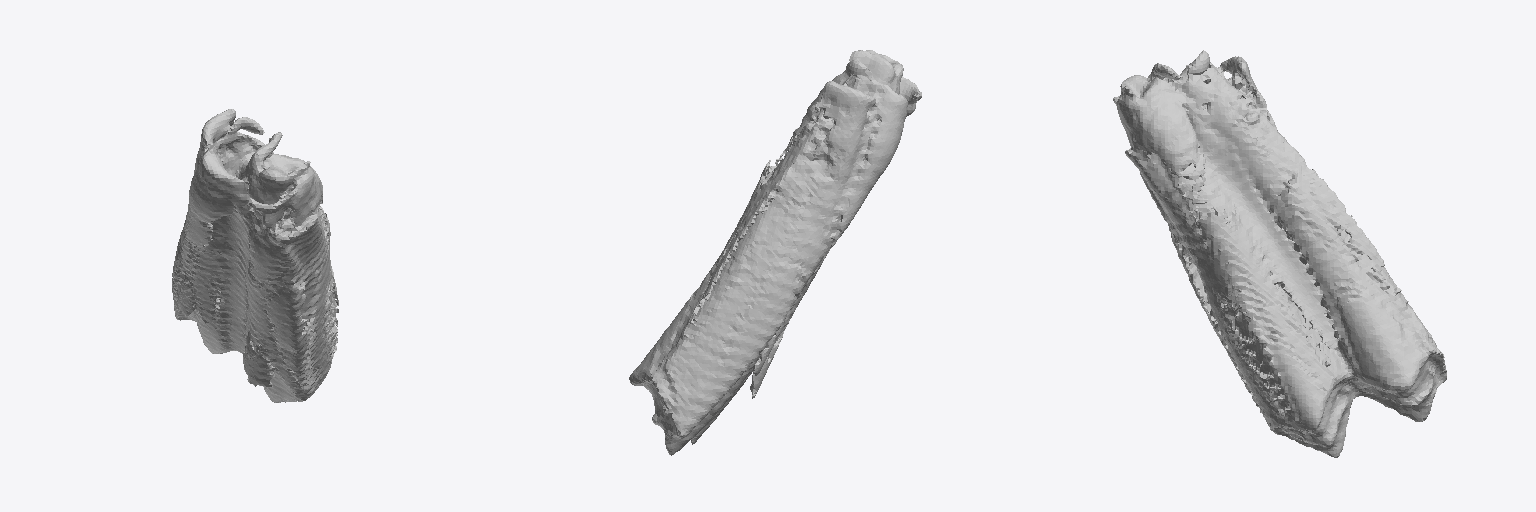
The model's file is MB Ovis 20 M2.obj.
3 renders of one model, left to right at view 1: azimuth 30°, elevation 25°; view 2: azimuth 150°, elevation 25°; view 3: azimuth 270°, elevation 25°, orthographic.
Size of the model in its own units: 18.86 by 33.6 by 28.45.